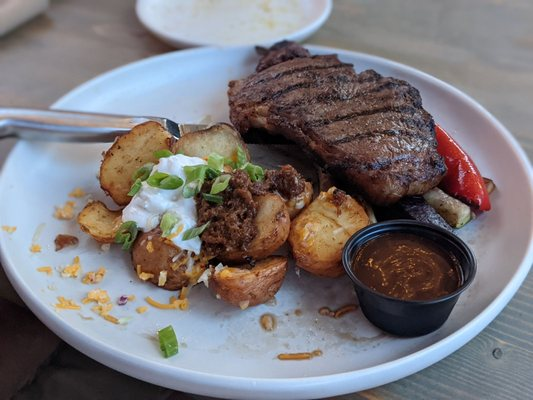sushi: (342, 220, 478, 337), (134, 0, 335, 50)
